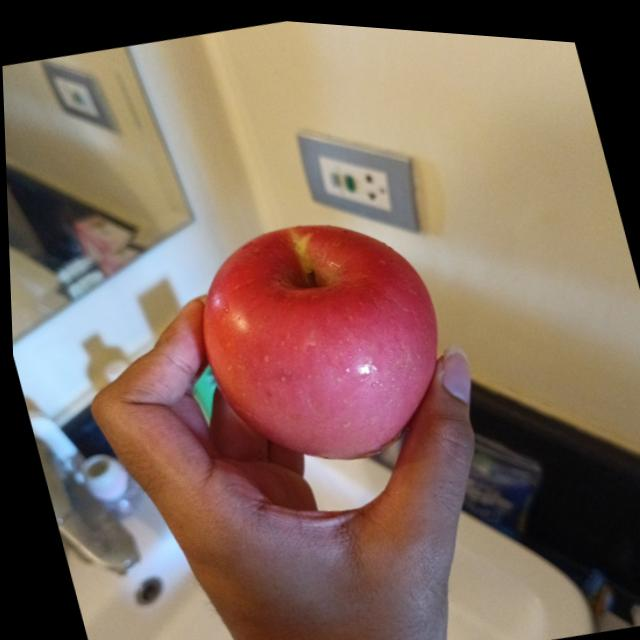apple: (175, 187, 465, 486)
